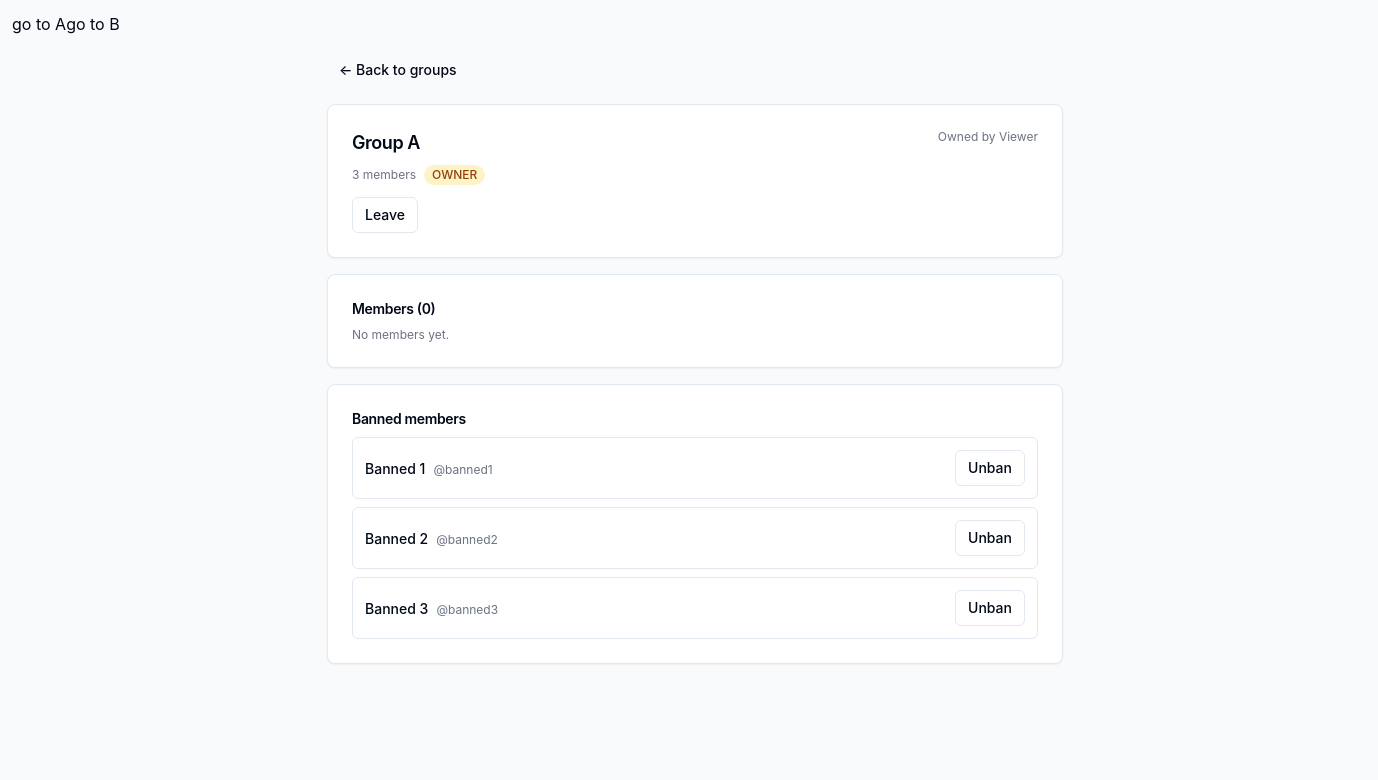
A. a confirmation opened in group A › disappears when the user moves to group B, and B receives no request
This screenshot has width=1378, height=780.
Check: the text "Banned 1" is shown, box [365, 460, 425, 477]
Click the link "go to B" at (93, 24), box [66, 14, 120, 34]
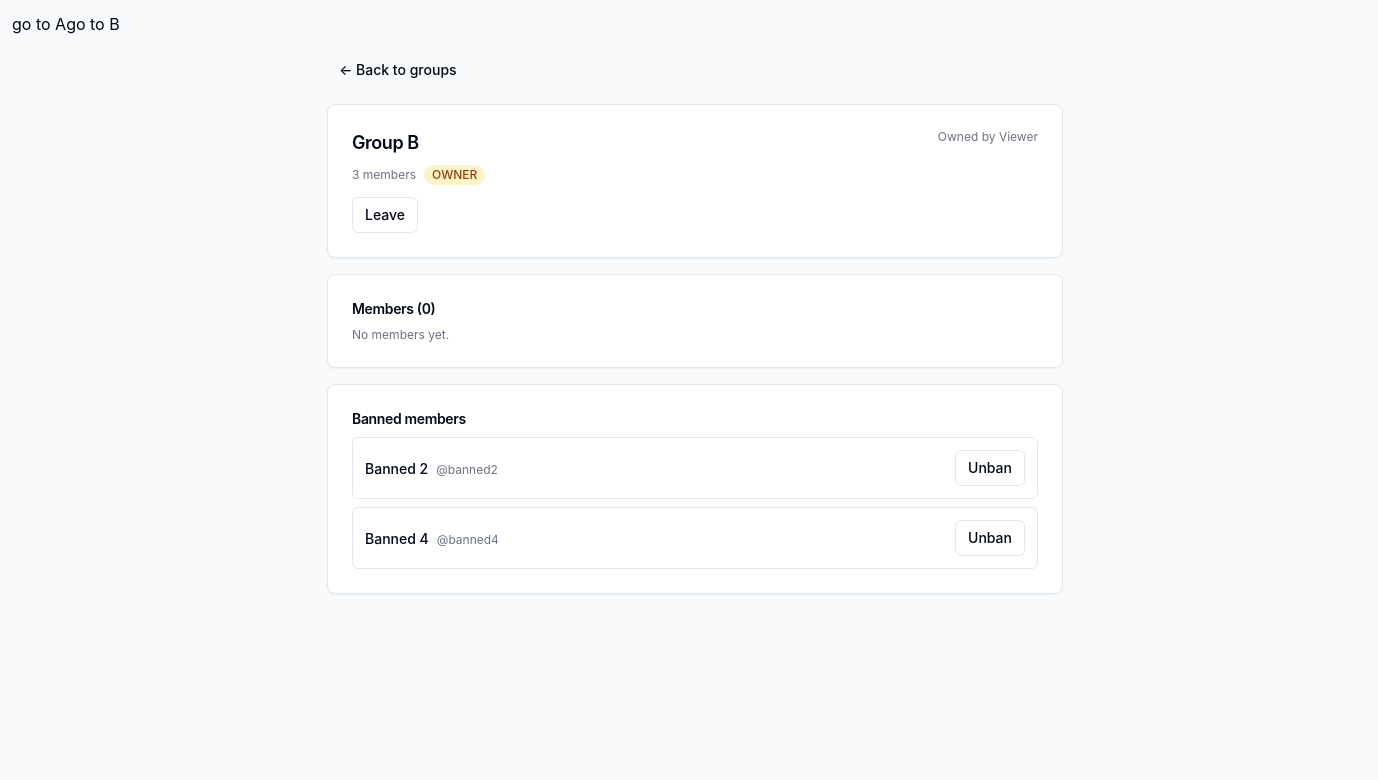
Check: the text "Banned 4" is shown, box [365, 530, 429, 547]
Click the link "go to A" at (39, 24), box [12, 14, 66, 34]
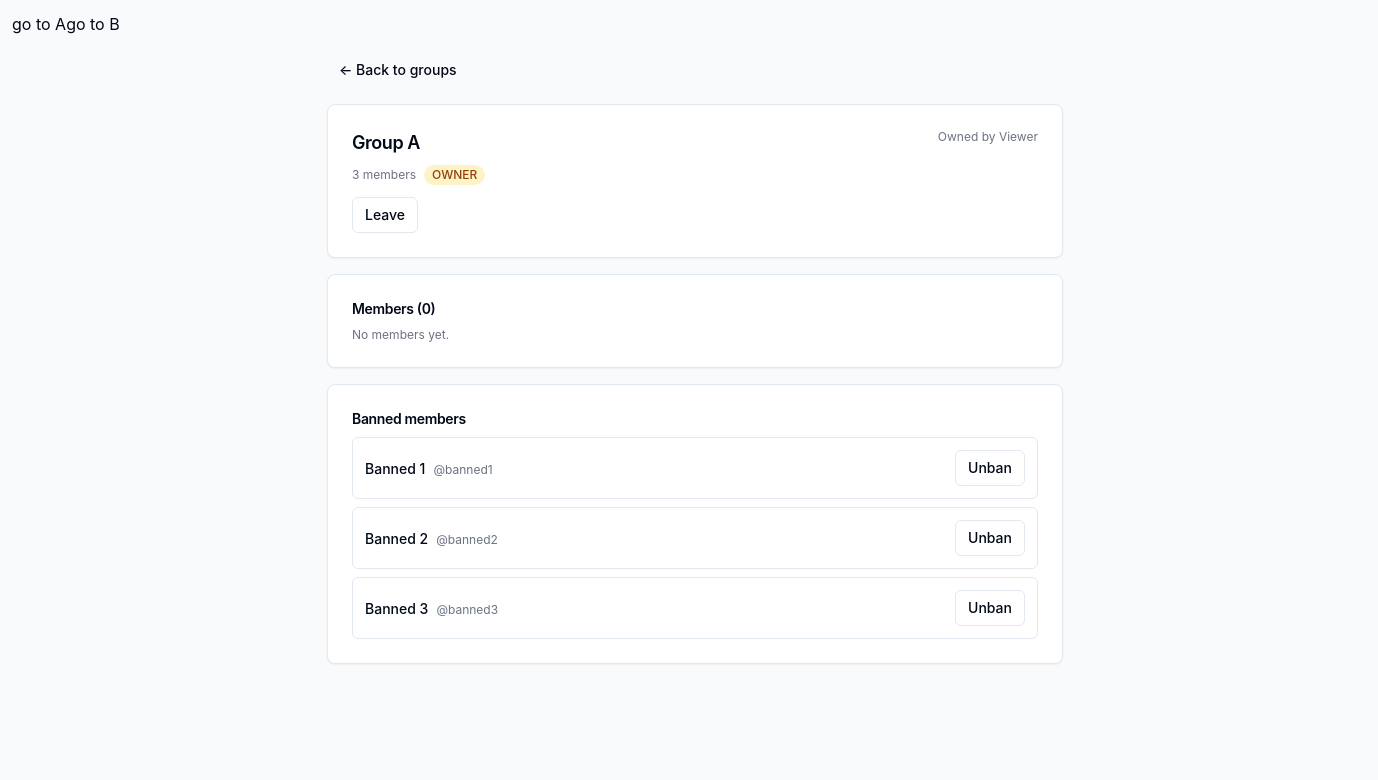
Check: the text "Banned 1" is shown, box [365, 460, 425, 477]
Click the button with aria-label "Unban Banned 2" at (990, 538), box [955, 520, 1025, 556]
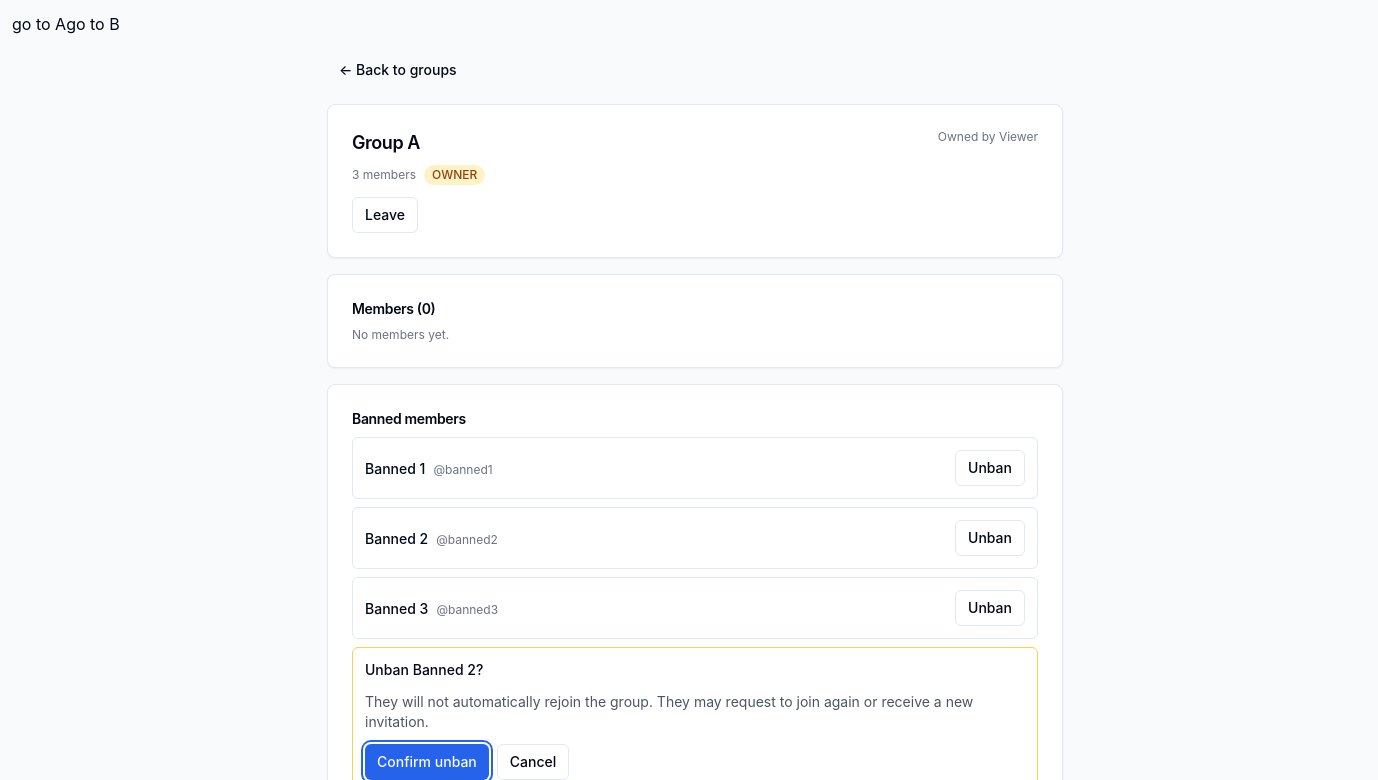
Click the link "go to B" at (93, 24), box [66, 14, 120, 34]
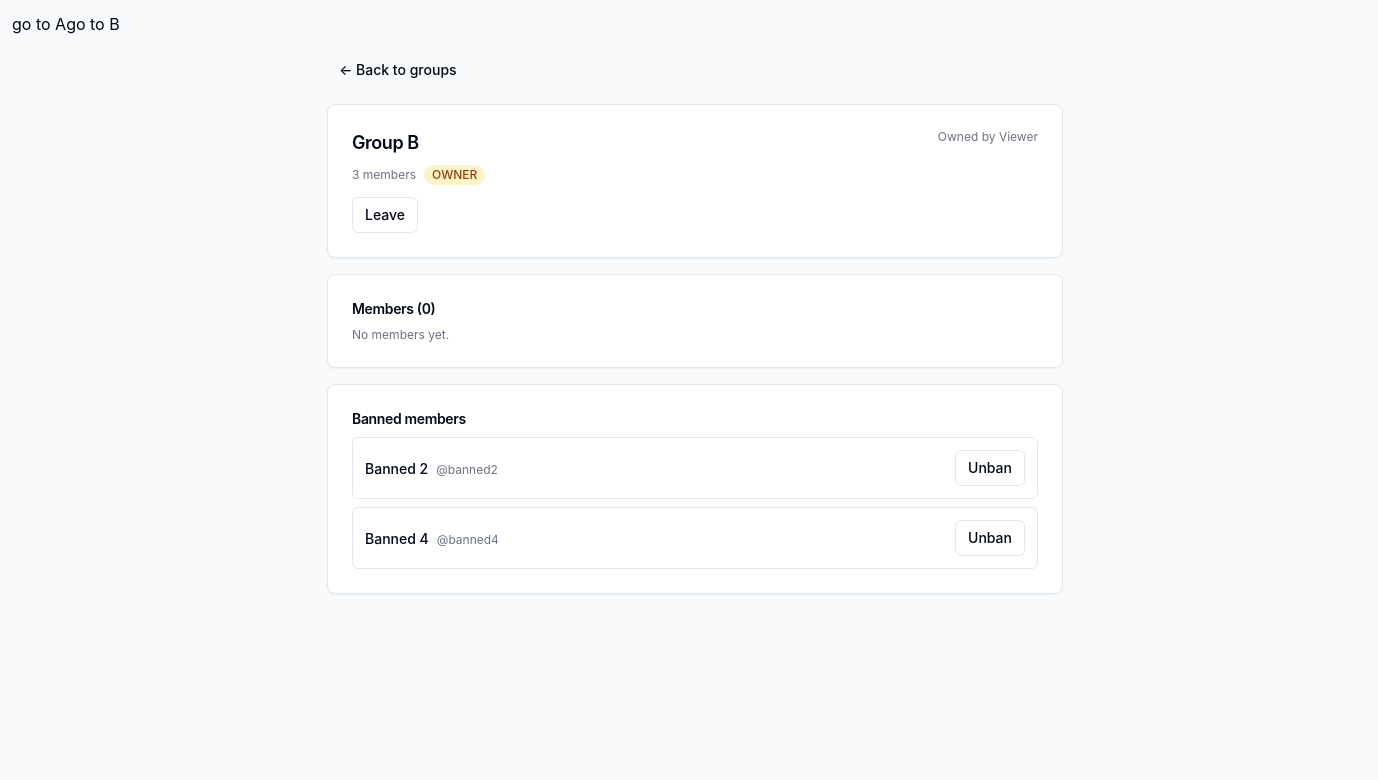
Check: the text "Banned 4" is shown, box [365, 530, 429, 547]
Check: the button "Confirm unban" is gone
